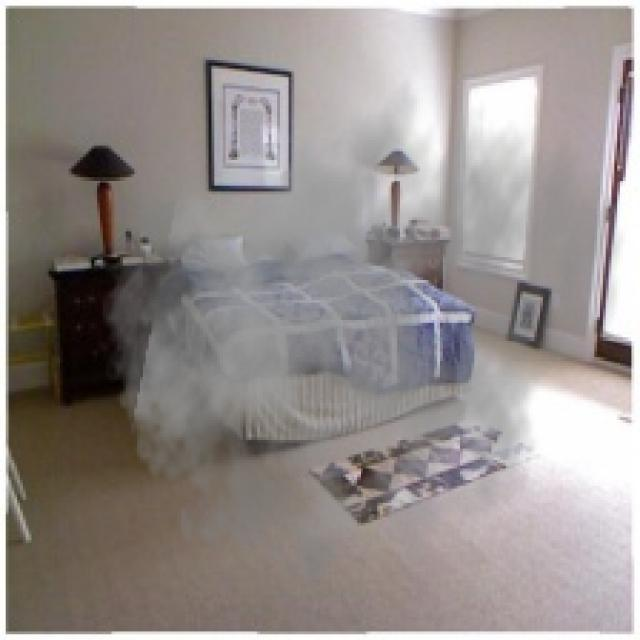Smoke: (94, 57, 626, 609)
